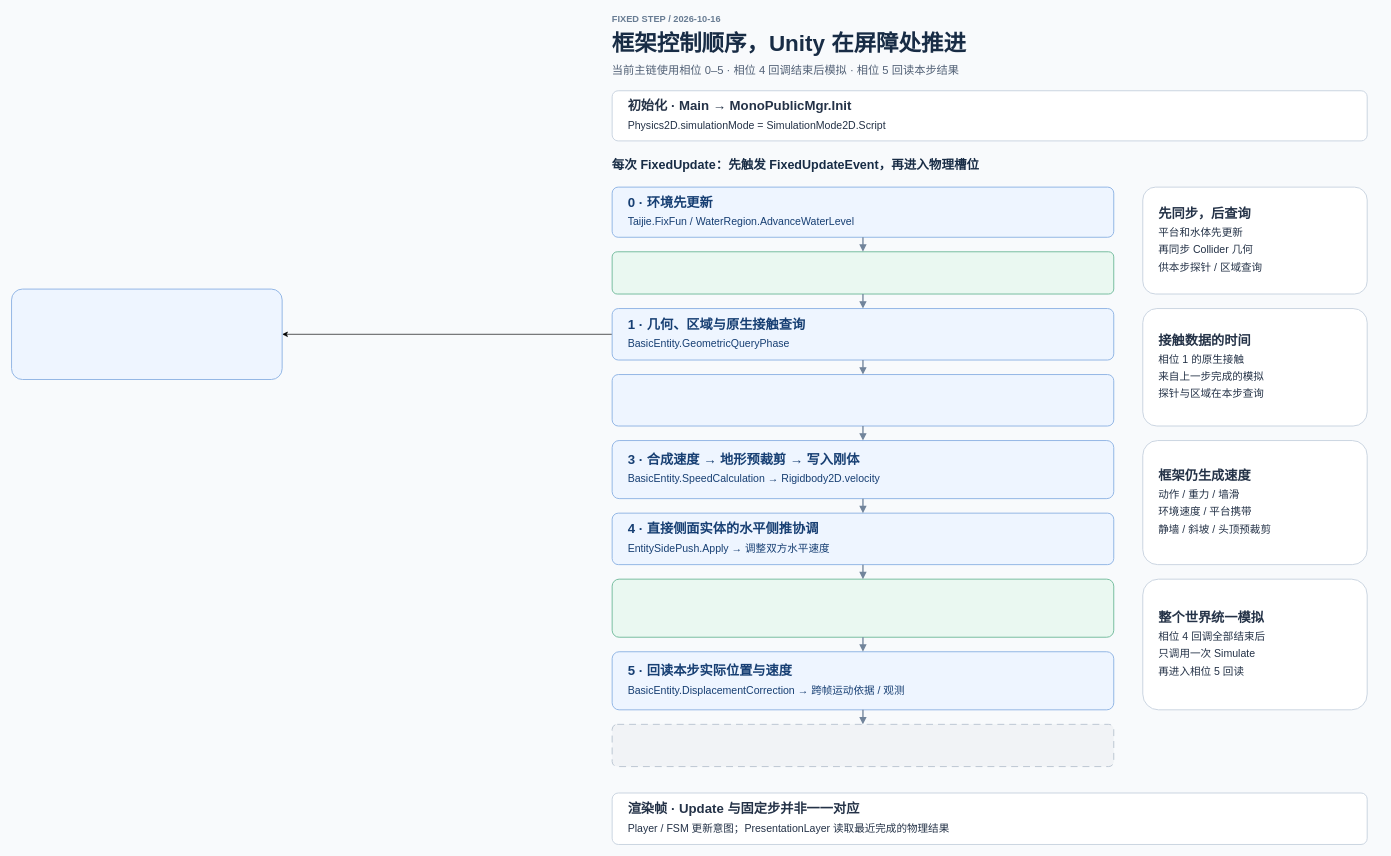
The diagram is 1391 pixels wide and 856 high, and some of its shapes have lost their labels. Each missing label, with the centre of its shape:
"2 · 环境来源、脚下 / 水事实、墙能力 PhyFunUpdate → EntityEnvironmentContext.RefreshEnvironment" belongs at point 862,400.
"人工注释： 临时数据容器： nativeContacts（原生接触点集） regionOverlapHits（原生重叠触发器列表）" belongs at point 146,334.
"同步几何 · Physics2D.SyncTransforms()" belongs at point 862,272.
"模拟屏障 · 相位 4 全部回调结束后 Physics2D.Simulate(Time.fixedDeltaTime) · 每个固定步一次" belongs at point 862,607.
"第 6 槽仍保留 · 当前无物理主链订阅" belongs at point 862,745.
